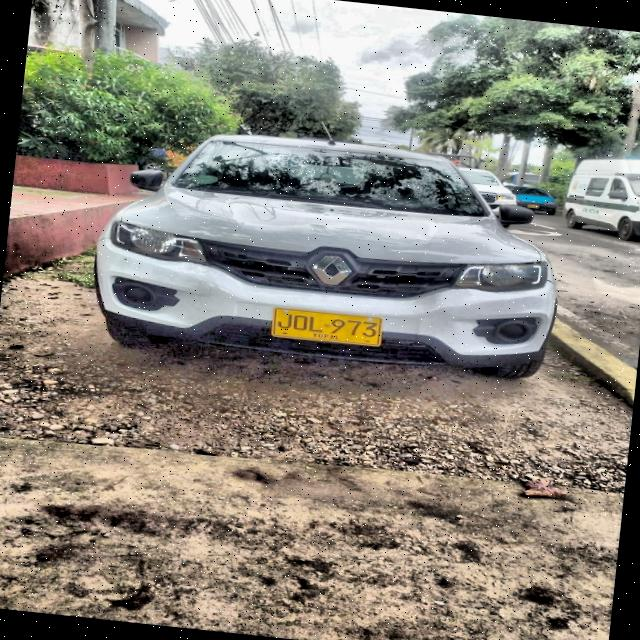3: (361, 320, 378, 338)
7: (345, 319, 362, 336)
9: (329, 318, 346, 335)
J: (276, 312, 293, 330)
L: (308, 316, 324, 332)
O: (292, 314, 308, 331)
